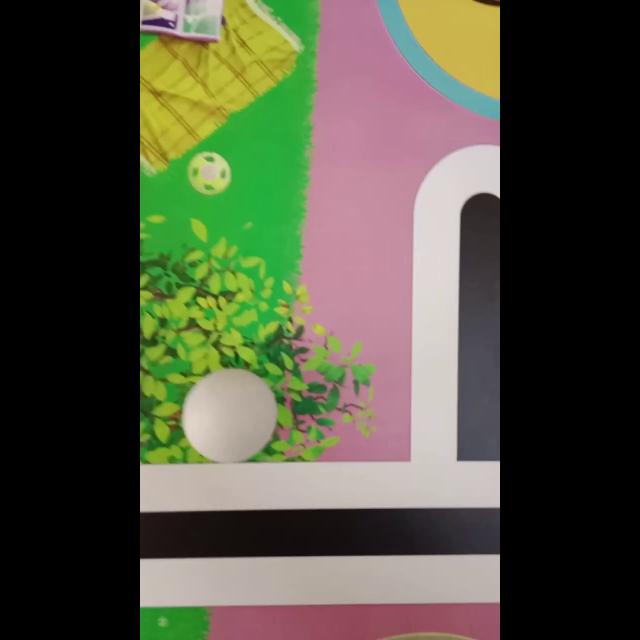white ball: (180, 367, 278, 463)
